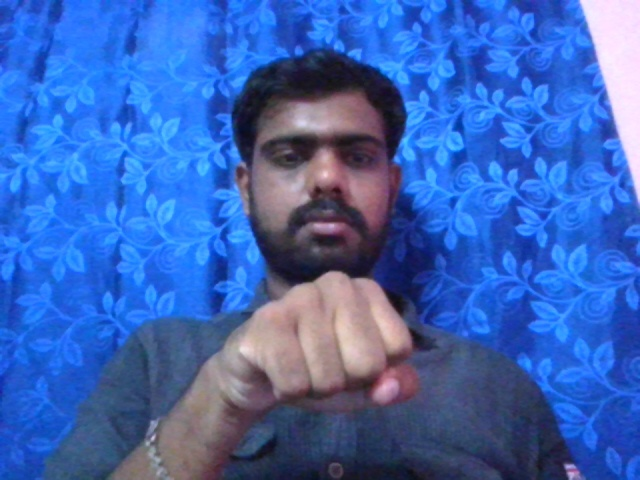Yes: (194, 269, 422, 426)
